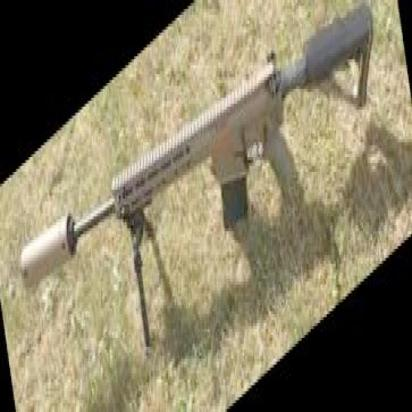Gun: (21, 26, 360, 297)
